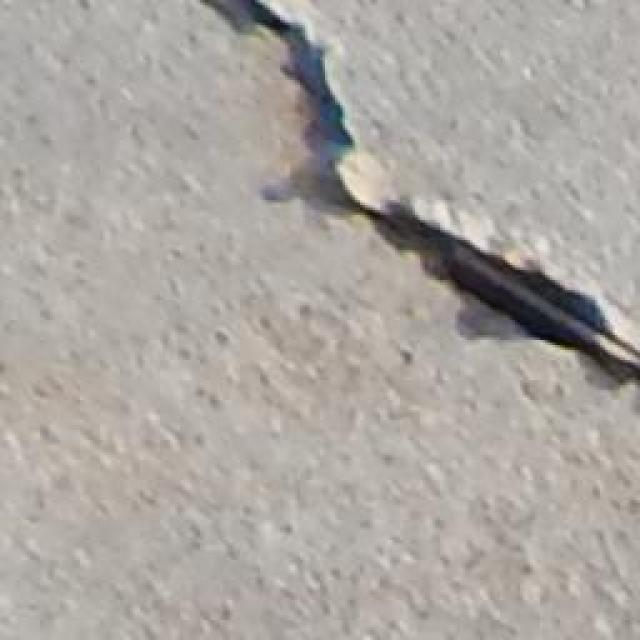concrete-crack: (197, 2, 640, 405)
